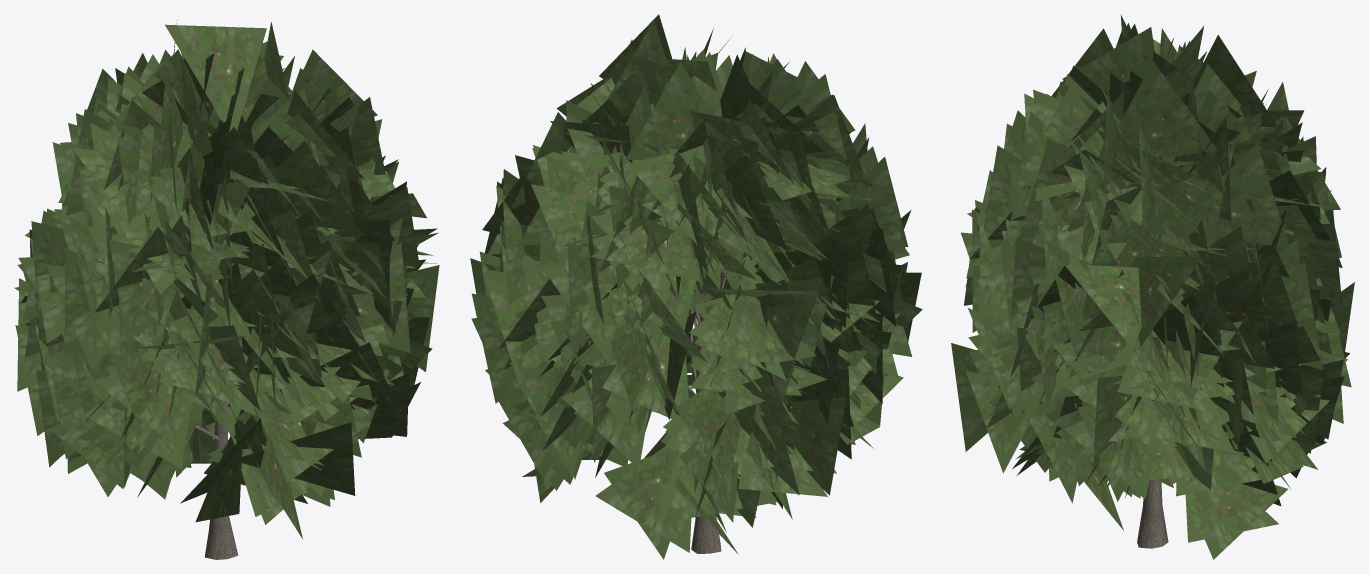
File: Quercus_Rubra_Spring_Young.glb
3 views of the same model, side by side, from view 1: azimuth 30°, elevation 25°; view 2: azimuth 150°, elevation 25°; view 3: azimuth 270°, elevation 25° (orthographic). The views are drawn at different scales.
Visible parts, largest first — view 1: Quercus_Rubra_Spring_Young__LOD3; view 2: Quercus_Rubra_Spring_Young__LOD3; view 3: Quercus_Rubra_Spring_Young__LOD3.
Part boxes in pixels (x1,y1,x2,y2): Quercus_Rubra_Spring_Young__LOD3: (14,20,439,559); Quercus_Rubra_Spring_Young__LOD3: (470,14,922,559); Quercus_Rubra_Spring_Young__LOD3: (951,14,1354,559).
Size of the model in its own units: 8.46 by 10.98 by 7.93.
Materials: 2 (2 with a texture image).
